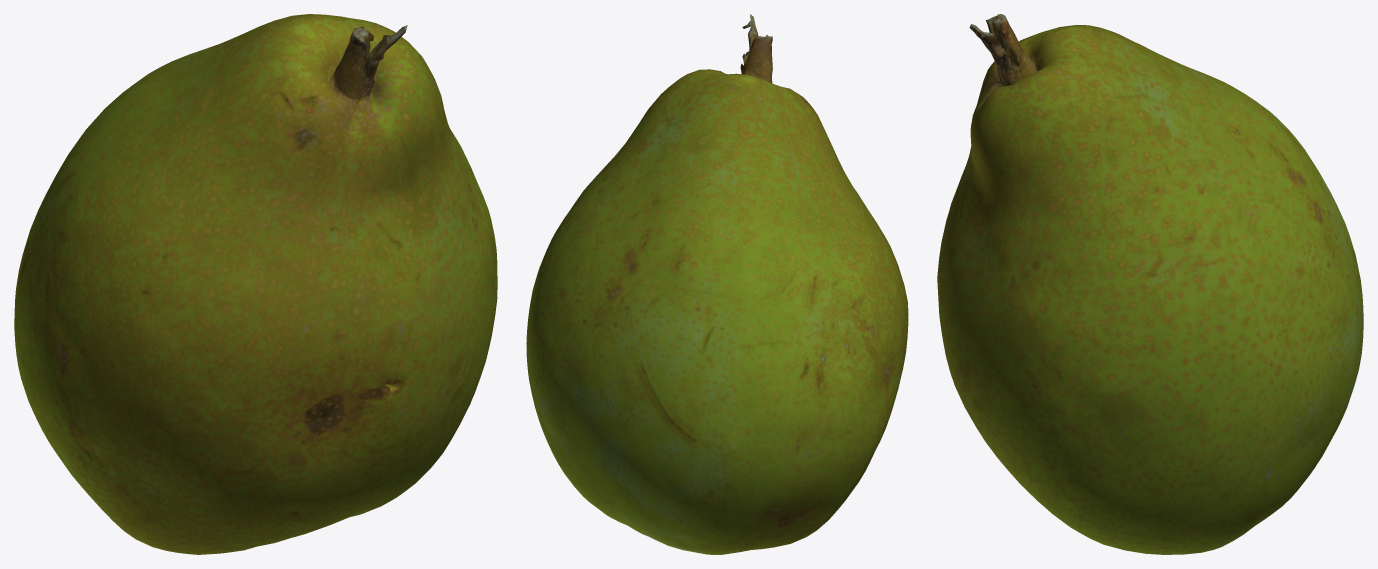
File: pear_3.glb
3 renders of one model, left to right at view 1: azimuth 30°, elevation 25°; view 2: azimuth 150°, elevation 25°; view 3: azimuth 270°, elevation 25°, orthographic. The views are drawn at different scales.
Parts seen in each view (by area): view 1: Pear; view 2: Pear; view 3: Pear.
Part boxes in pixels (box(x1,y1,x2,y2)): Pear: box(14, 14, 497, 554); Pear: box(526, 14, 908, 554); Pear: box(937, 14, 1363, 554).
Size of the model in its own units: 0.0854 by 0.1091 by 0.0815.
1 material, 1 textured.
